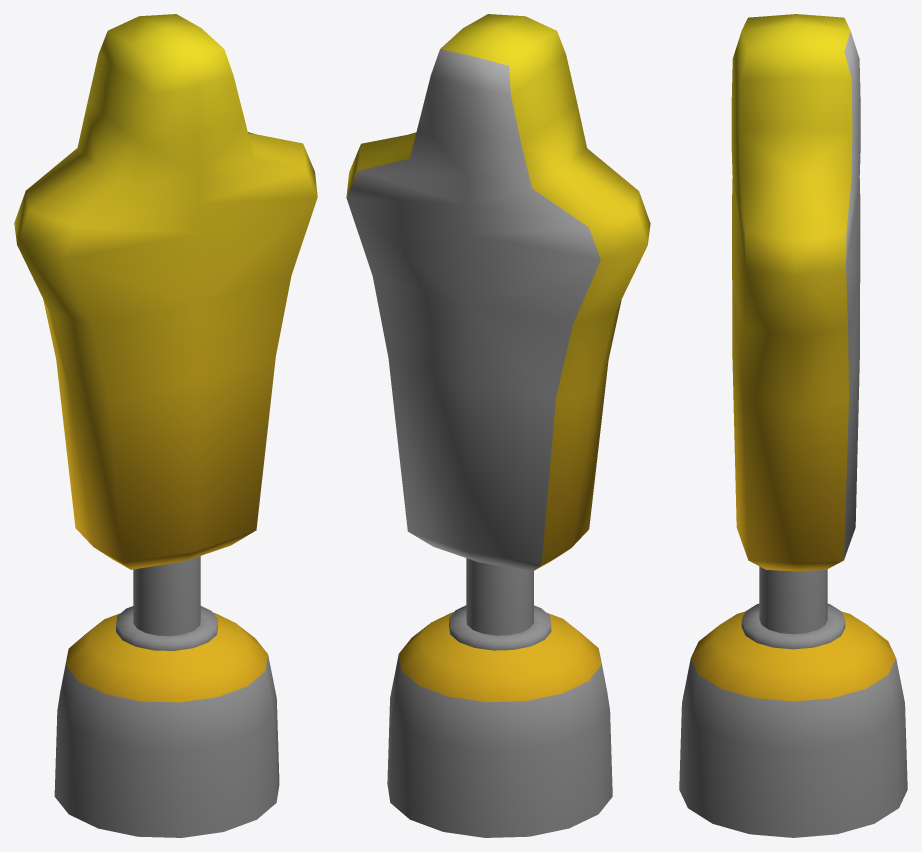
File: Punching bag.fbx
The picture shows the model from 3 angles, left to right: view 1: azimuth 30°, elevation 25°; view 2: azimuth 150°, elevation 25°; view 3: azimuth 270°, elevation 25°; orthographic projection.
Visible parts, largest first — view 1: Punching bag; view 2: Punching bag; view 3: Punching bag.
Boxes of the visible parts, left/top/right/bottom form: Punching bag: left=14, top=14, right=317, bottom=837; Punching bag: left=346, top=14, right=650, bottom=837; Punching bag: left=679, top=14, right=907, bottom=837.
Size of the model in its own units: 0.7673 by 0.5056 by 1.87.
